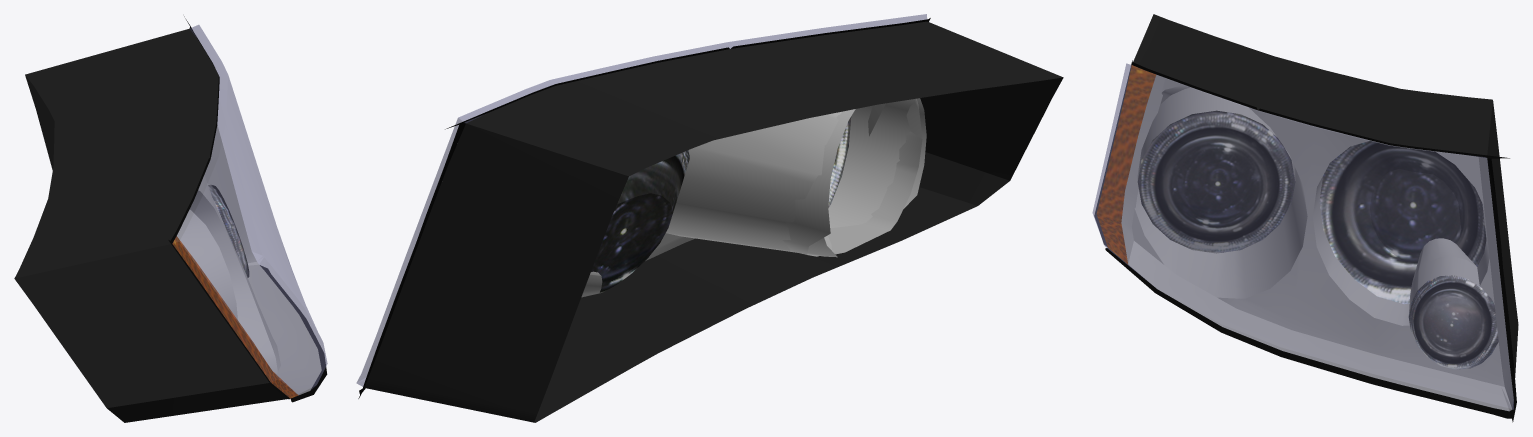
The picture shows the model from 3 angles, left to right: view 1: azimuth 30°, elevation 25°; view 2: azimuth 150°, elevation 25°; view 3: azimuth 270°, elevation 25°; orthographic projection. The views are drawn at different scales.
Parts seen in each view (by area): view 1: J733_061B_R_J733_061B_R_6_D, J733_061B_R_J733_061B_R_7_DTaSI, J733_061B_R_J733_061B_R_5_DaS, J733_061B_R_1_N_J733_061B_R, J733_061B_R_J733_061B_R_8_D, J733_061B_R_J733_061B_R_4_N; view 2: J733_061B_R_J733_061B_R_6_D, J733_061B_R_J733_061B_R_5_DaS, J733_061B_R_J733_061B_R_3_N, J733_061B_R_J733_061B_R_7_DTaSI, J733_061B_R_J733_061B_R_8_D, J733_061B_R_J733_061B_R_2_N; view 3: J733_061B_R_J733_061B_R_7_DTaSI, J733_061B_R_J733_061B_R_5_DaS, J733_061B_R_J733_061B_R_6_D, J733_061B_R_J733_061B_R_3_N, J733_061B_R_J733_061B_R_2_N, J733_061B_R_J733_061B_R_4_N, J733_061B_R_J733_061B_R_8_D, J733_061B_R_1_N_J733_061B_R.
Part boxes in pixels (x1,y1,x2,y2): J733_061B_R_J733_061B_R_6_D: [14, 28, 287, 422]; J733_061B_R_J733_061B_R_7_DTaSI: [172, 25, 327, 398]; J733_061B_R_J733_061B_R_5_DaS: [177, 125, 321, 394]; J733_061B_R_1_N_J733_061B_R: [172, 236, 298, 398]; J733_061B_R_J733_061B_R_8_D: [168, 16, 327, 402]; J733_061B_R_J733_061B_R_4_N: [208, 184, 249, 277]; J733_061B_R_J733_061B_R_6_D: [364, 21, 1063, 422]; J733_061B_R_J733_061B_R_5_DaS: [581, 98, 926, 297]; J733_061B_R_J733_061B_R_3_N: [591, 150, 689, 293]; J733_061B_R_J733_061B_R_7_DTaSI: [356, 14, 927, 386]; J733_061B_R_J733_061B_R_8_D: [358, 18, 930, 398]; J733_061B_R_J733_061B_R_2_N: [828, 117, 851, 207]; J733_061B_R_J733_061B_R_7_DTaSI: [1092, 63, 1513, 410]; J733_061B_R_J733_061B_R_5_DaS: [1121, 75, 1513, 411]; J733_061B_R_J733_061B_R_6_D: [1133, 14, 1518, 377]; J733_061B_R_J733_061B_R_3_N: [1319, 141, 1486, 303]; J733_061B_R_J733_061B_R_2_N: [1138, 110, 1295, 253]; J733_061B_R_J733_061B_R_4_N: [1408, 275, 1498, 369]; J733_061B_R_J733_061B_R_8_D: [1094, 60, 1516, 422]; J733_061B_R_1_N_J733_061B_R: [1096, 65, 1155, 263].
Size of the model in its own units: 35.76 by 20.53 by 34.06.
